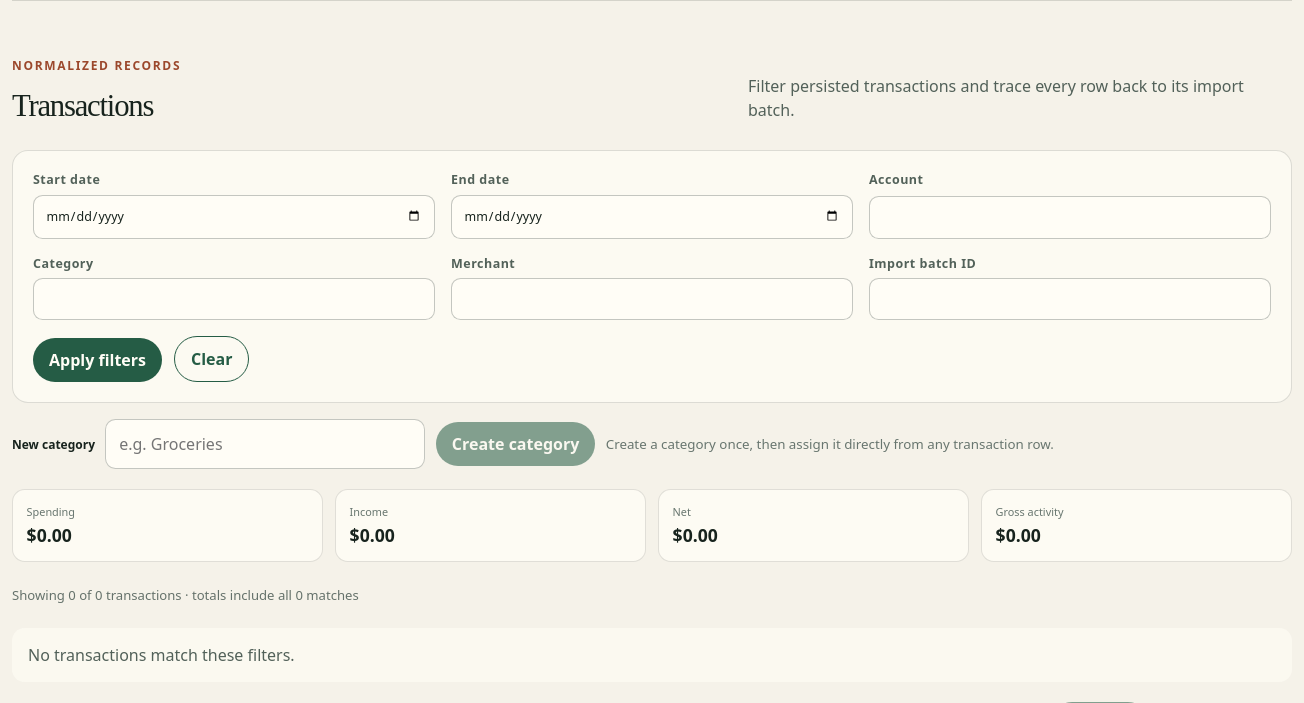
Test case: TransactionExplorer › applies filters and renders API errors
Expected: the text "No transactions match these filters." is shown, [12,628,1292,682]
Type "Sample Checking" into the field labelled "Account" at {"x": 1070, "y": 217}, box [869,196,1271,239]
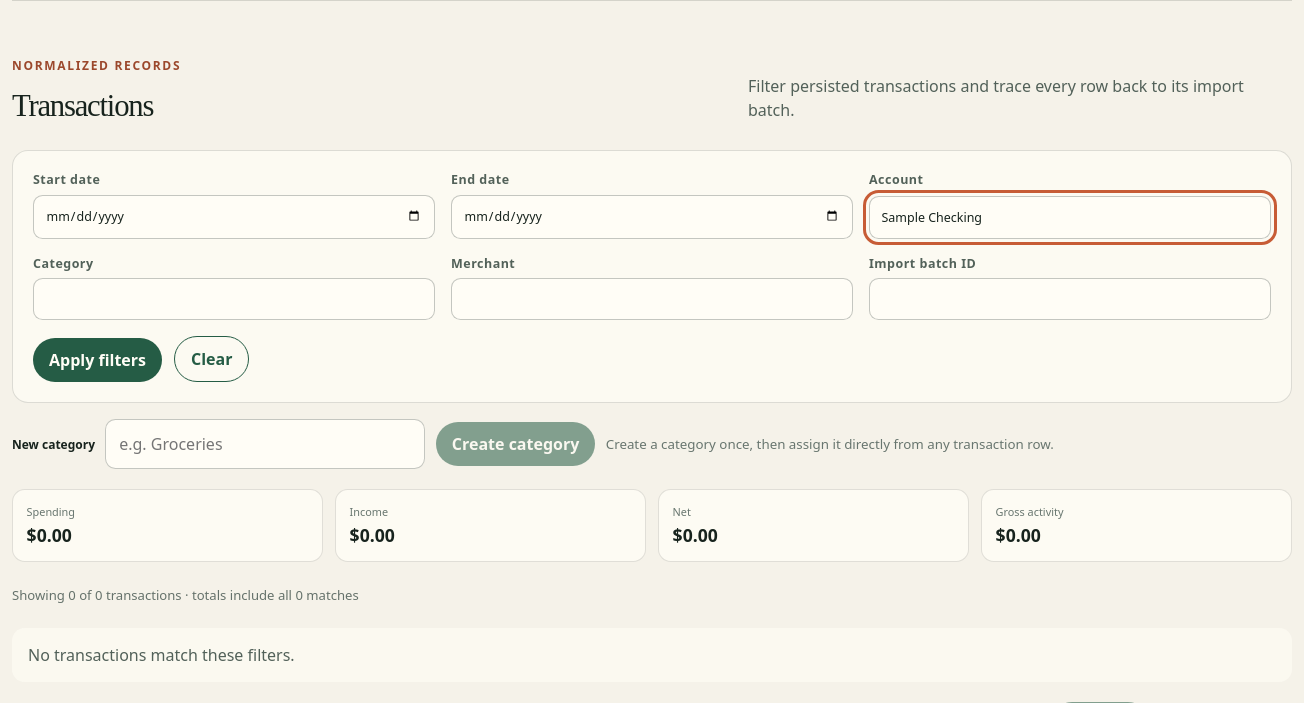
Click the button "Apply filters" at {"x": 98, "y": 360}, box [33,338,162,382]
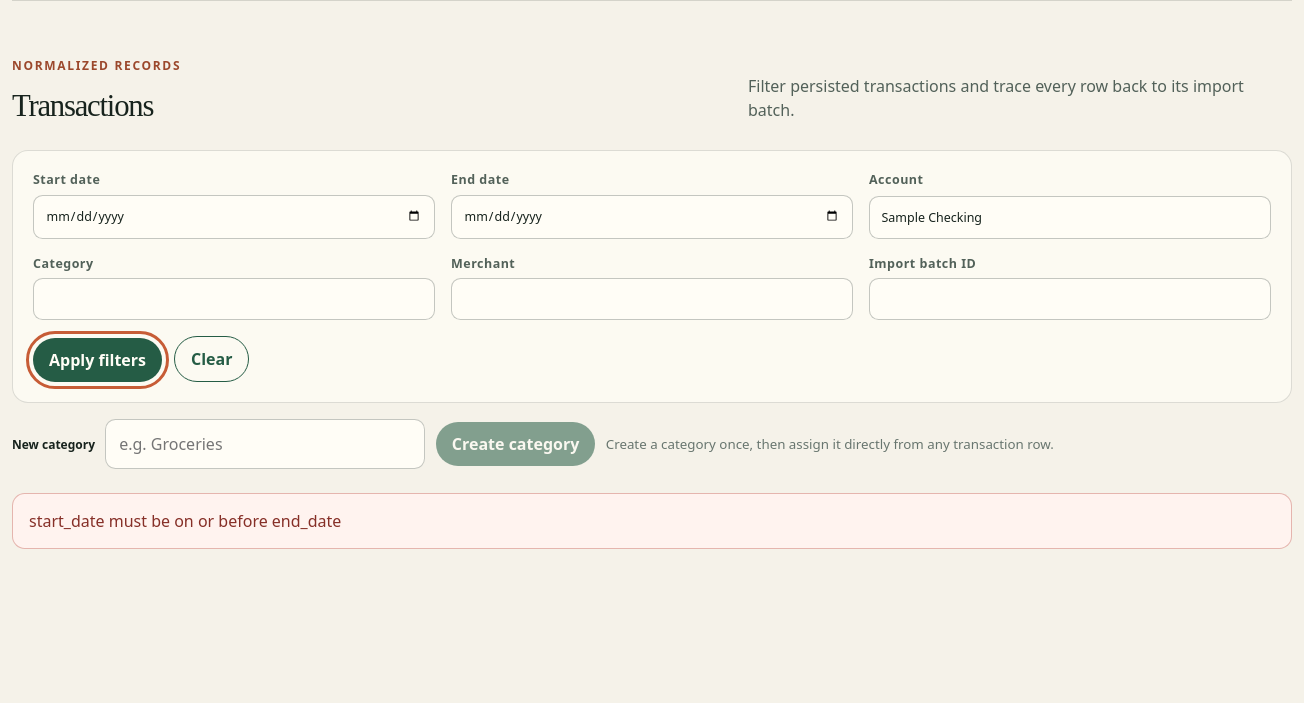
Result: the message reads "start_date must be on or before end_date" at [29,510,341,532]
